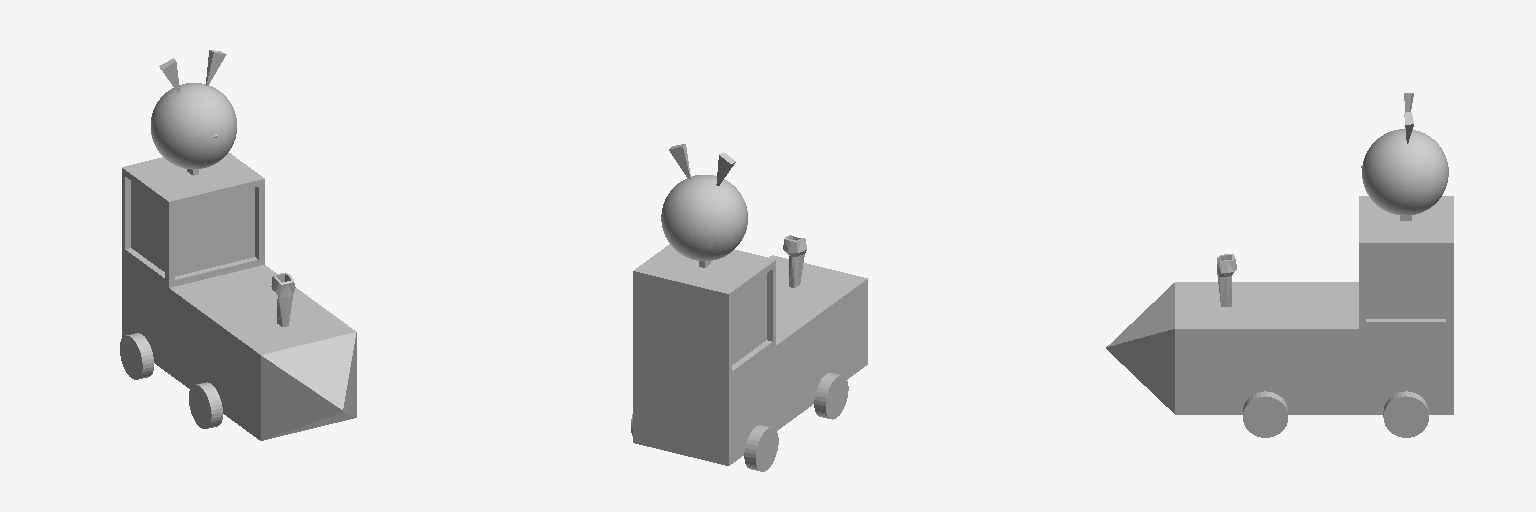
File: nyuszivonat.obj
The picture shows the model from 3 angles: view 1: azimuth 30°, elevation 25°; view 2: azimuth 150°, elevation 25°; view 3: azimuth 270°, elevation 25°; orthographic projection.
Parts seen in each view (by area): view 1: Cube; view 2: Cube; view 3: Cube.
Boxes of the visible parts, x1,y1,x2,y2 form: Cube: [120, 50, 356, 440]; Cube: [631, 144, 867, 471]; Cube: [1106, 93, 1453, 437].
Bounding box in the file's own units: 2.03 × 4.74 × 4.85.